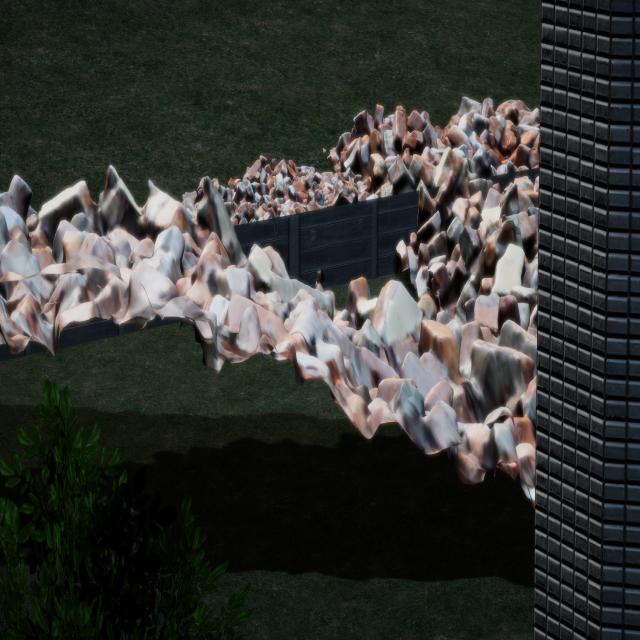Human: (306, 258, 331, 316)
